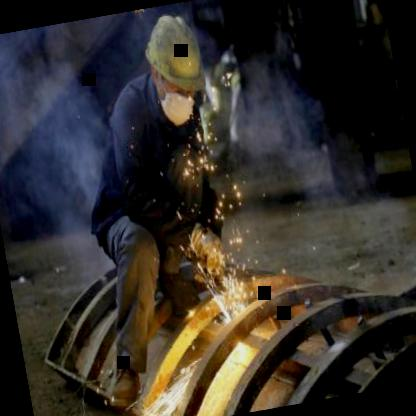helmet: (137, 3, 212, 122)
